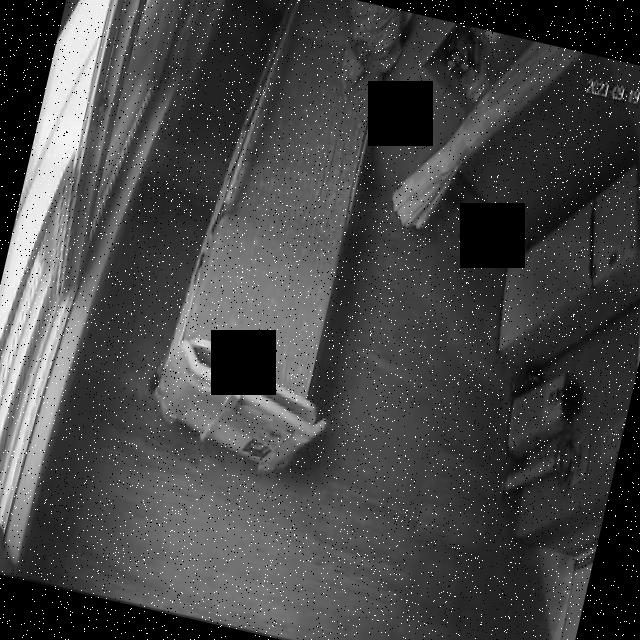bed: (142, 0, 420, 488)
